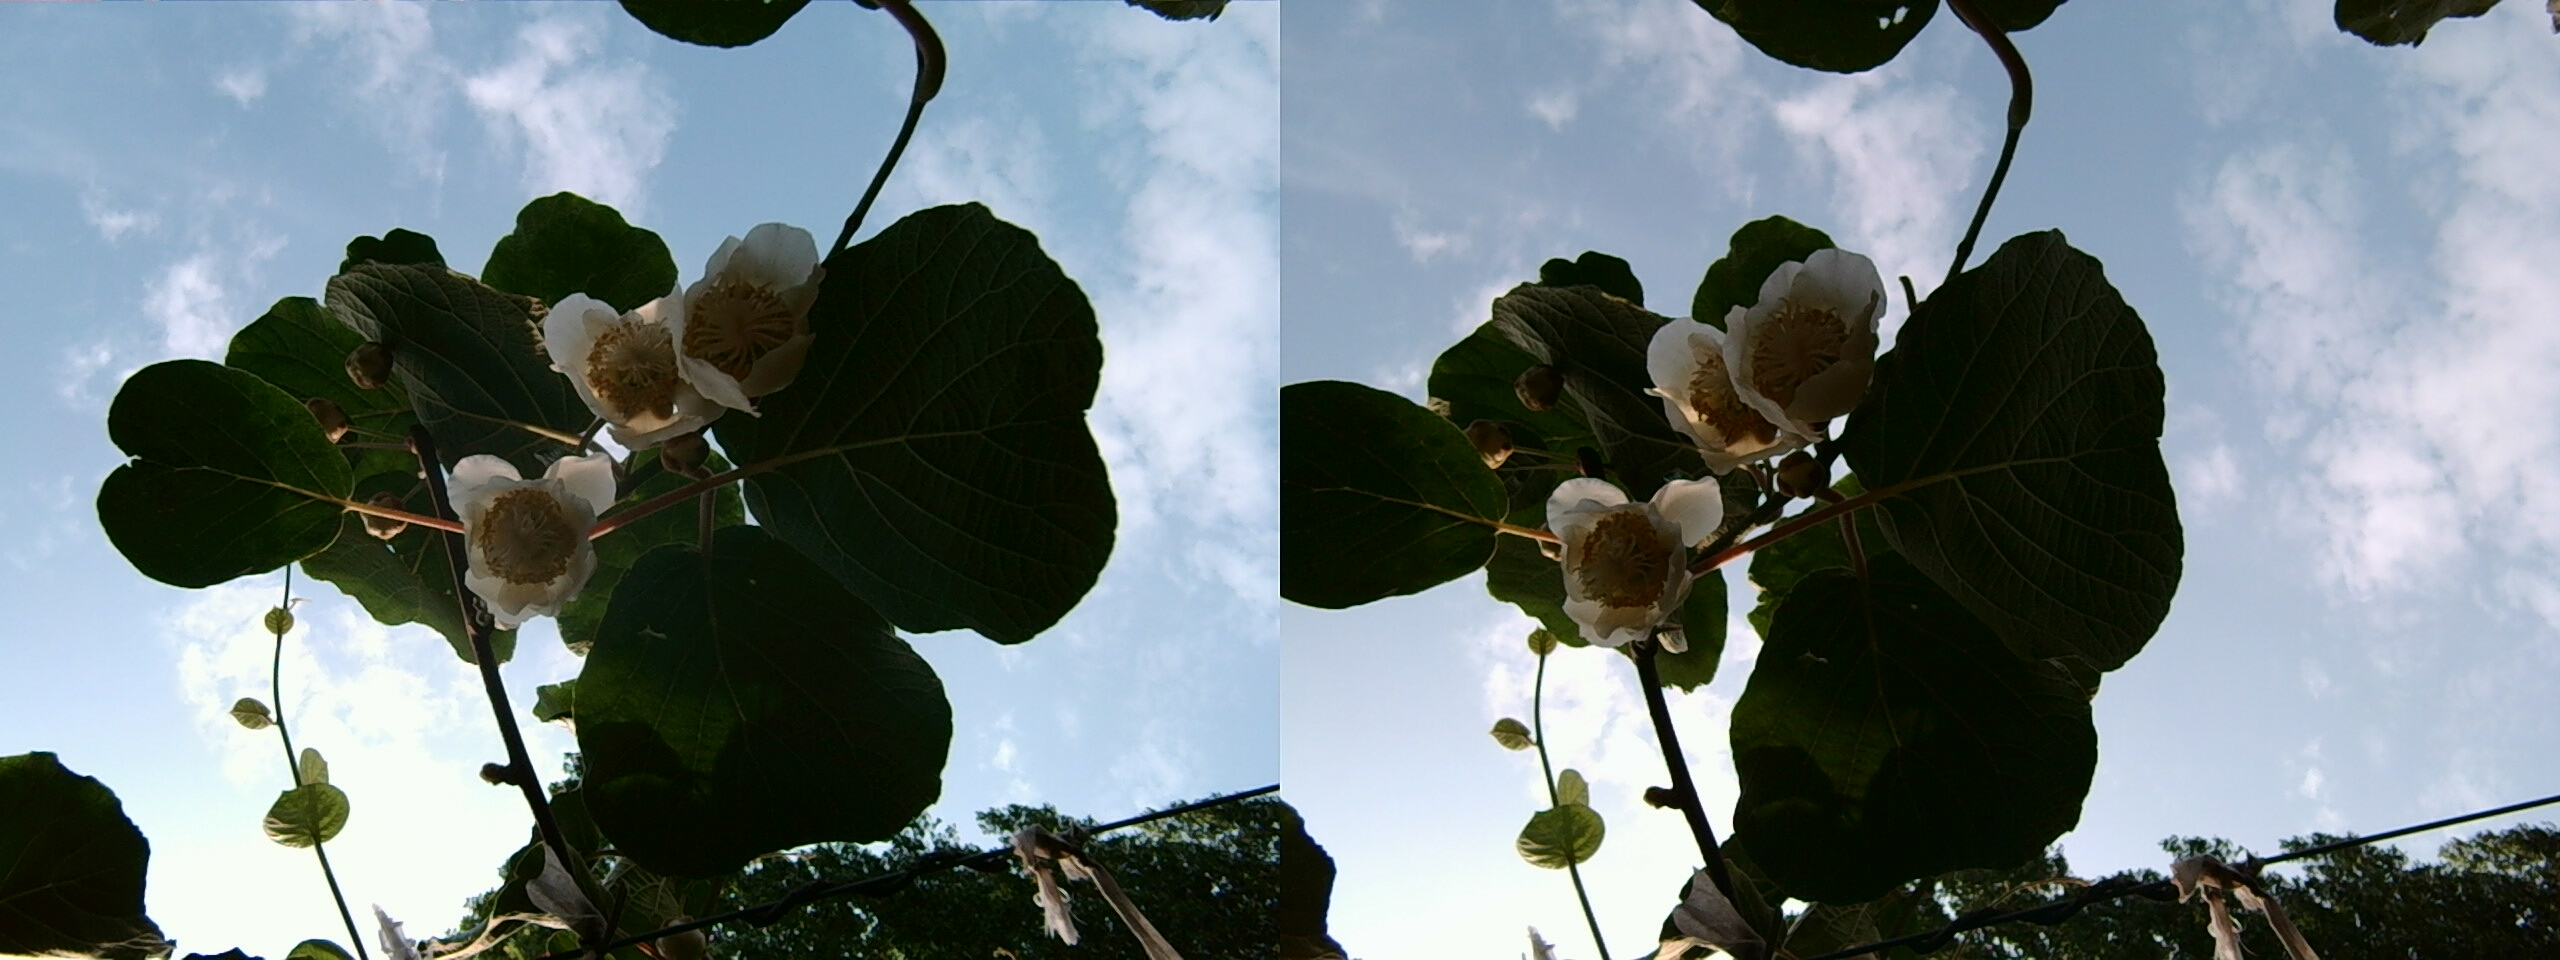flower: (576, 229, 789, 434), (1680, 250, 1882, 433), (668, 216, 826, 405), (1540, 473, 1713, 647), (454, 447, 620, 625), (549, 286, 731, 438), (1646, 317, 1793, 456)
